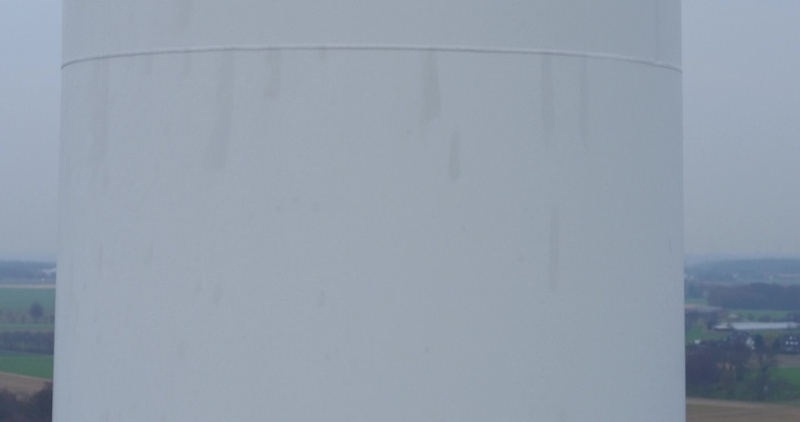weldseam: (60, 42, 683, 79)
